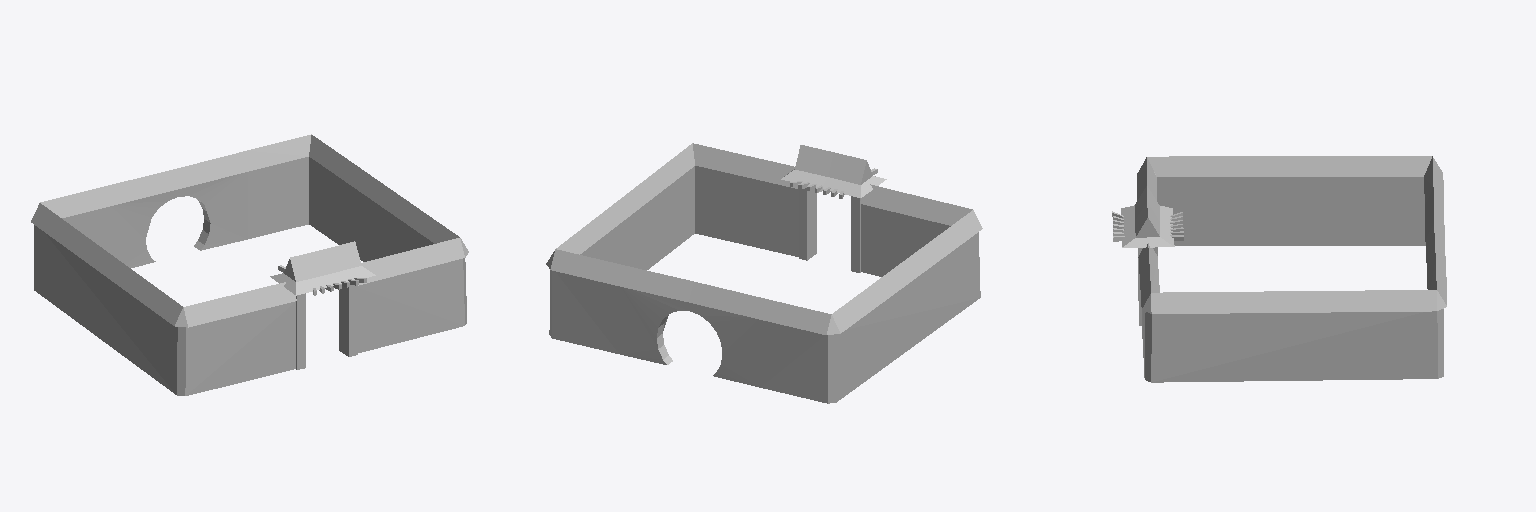
The model's file is China Fence.obj.
3 renders of one model, left to right at view 1: azimuth 30°, elevation 25°; view 2: azimuth 150°, elevation 25°; view 3: azimuth 270°, elevation 25°, orthographic.
Parts seen in each view (by area): view 1: China_Fence; view 2: China_Fence; view 3: China_Fence.
Part boxes in pixels (bbox=[...]): China_Fence: bbox=[31, 134, 468, 395]; China_Fence: bbox=[546, 143, 982, 403]; China_Fence: bbox=[1112, 156, 1446, 382].
Size of the model in its own units: 14.61 by 5.15 by 14.21.